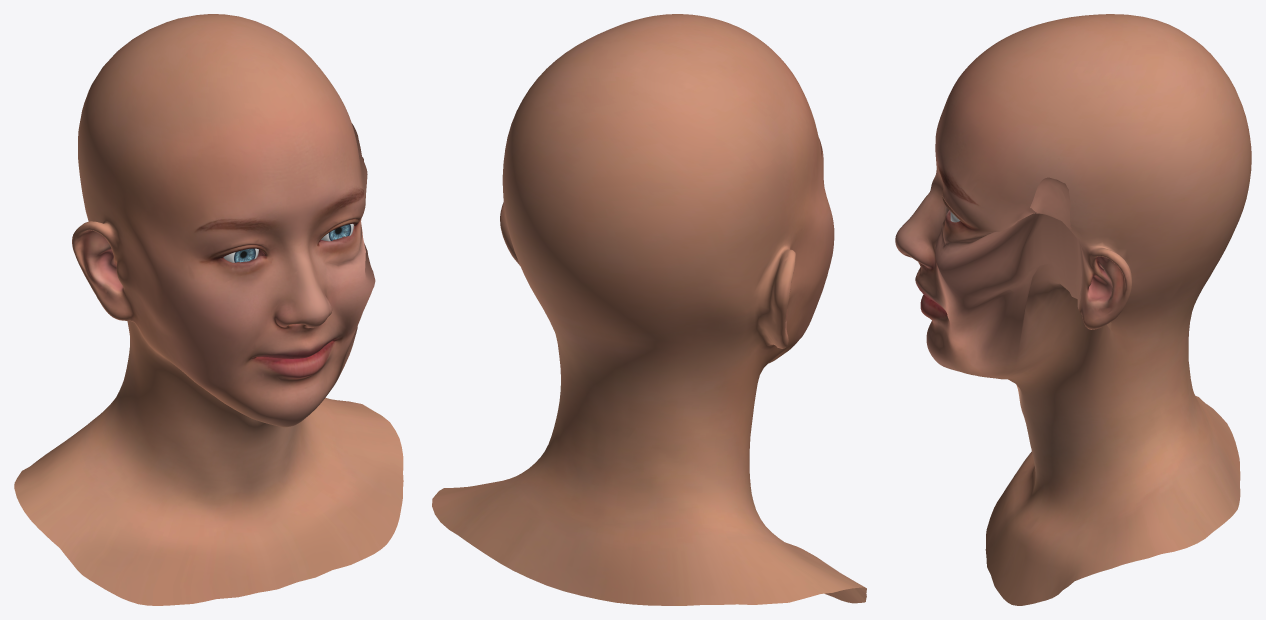
File: LOW LEVEL 3_final.glb
3 renders of one model, left to right at view 1: azimuth 30°, elevation 25°; view 2: azimuth 150°, elevation 25°; view 3: azimuth 270°, elevation 25°, orthographic. The views are drawn at different scales.
Visible parts, largest first — view 1: model_expression, Object_3.001; view 2: model_expression; view 3: model_expression.
Part boxes in pixels (bbox=[...]): model_expression: bbox=[14, 14, 403, 605]; Object_3.001: bbox=[223, 224, 353, 262]; model_expression: bbox=[432, 14, 866, 605]; model_expression: bbox=[895, 14, 1251, 605].
Bounding box in the file's own units: 25.14 × 33.98 × 20.99.
3 materials, 2 textured.
